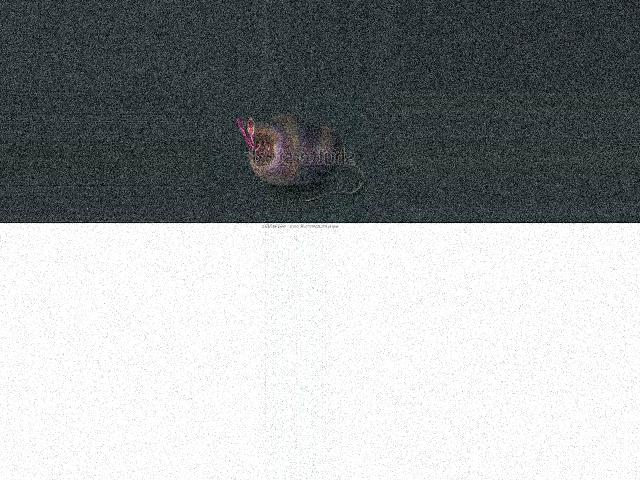beet: (233, 115, 364, 201)
